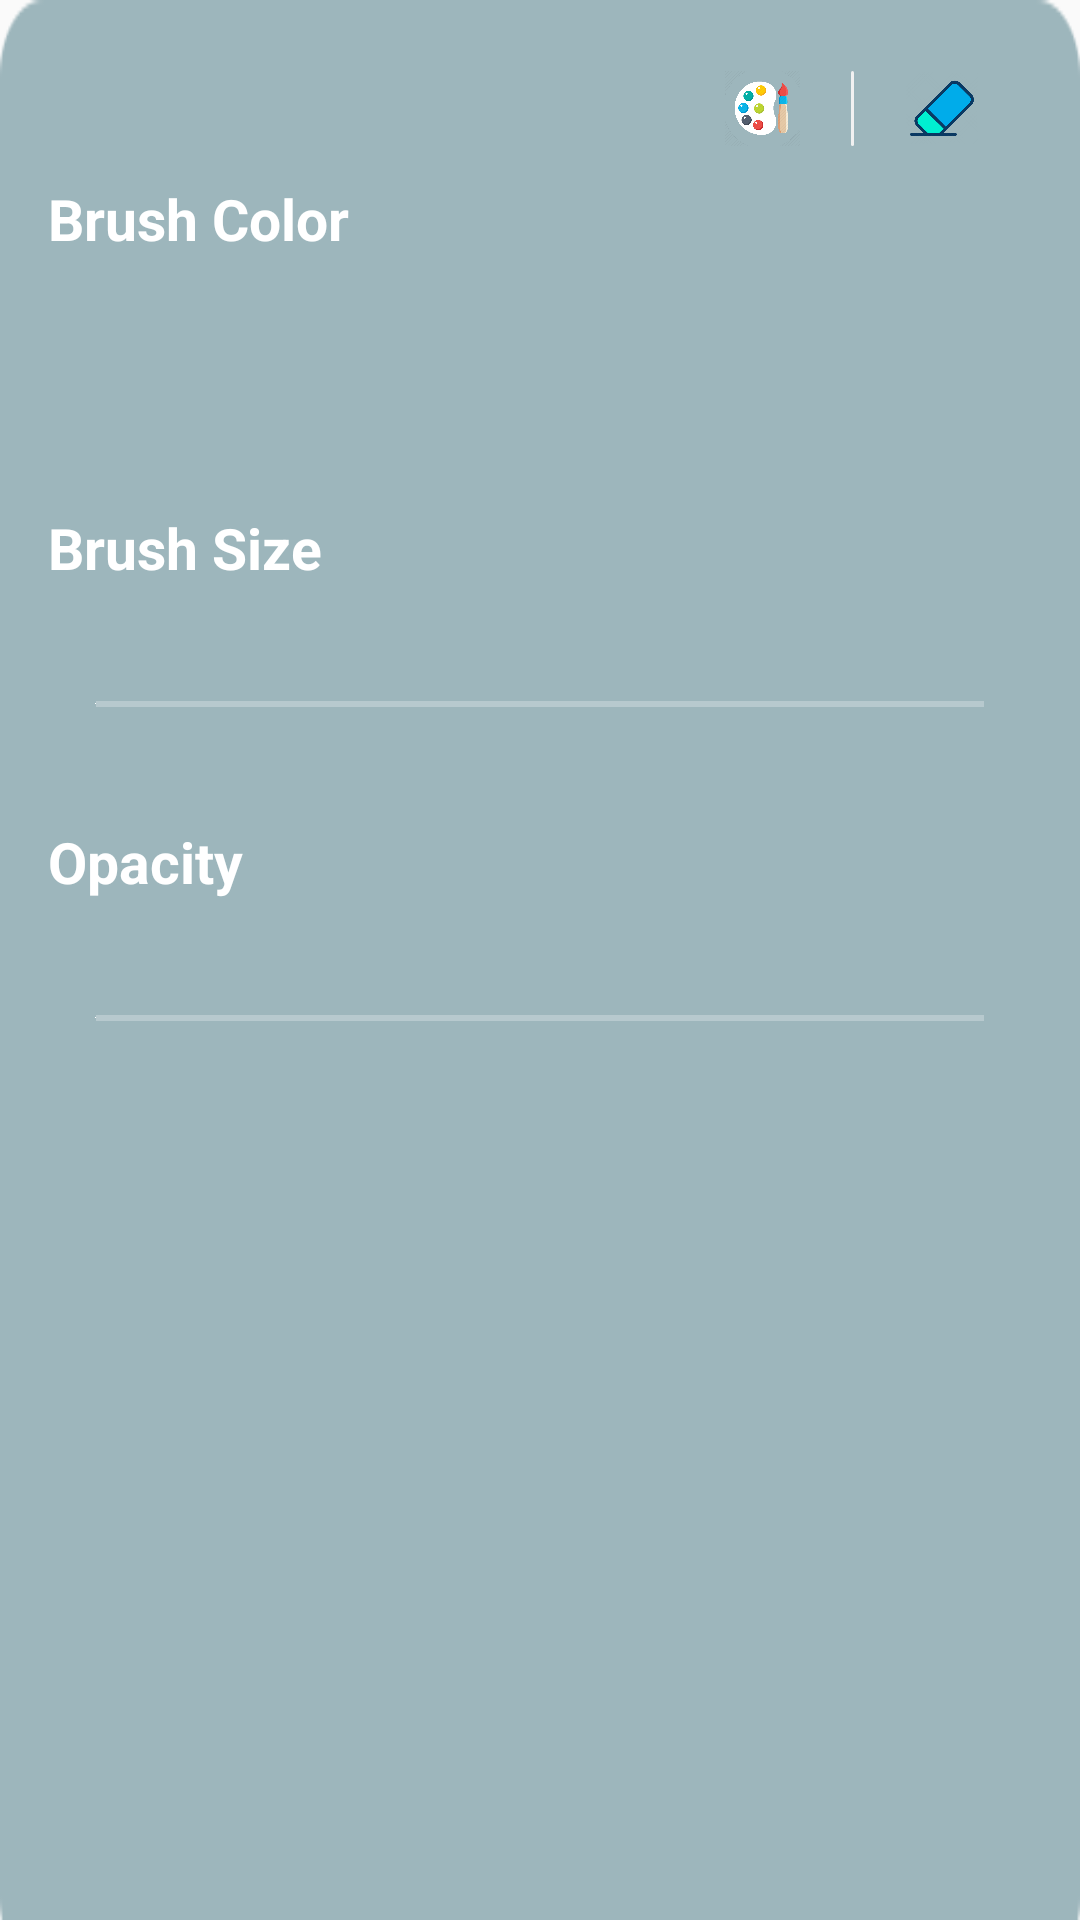

Screen size 1080*1920. Icon name, then its box in pixels as (x1, y1, x2, y2):
brush: (735, 82, 788, 135)
eraser: (910, 81, 974, 136)
